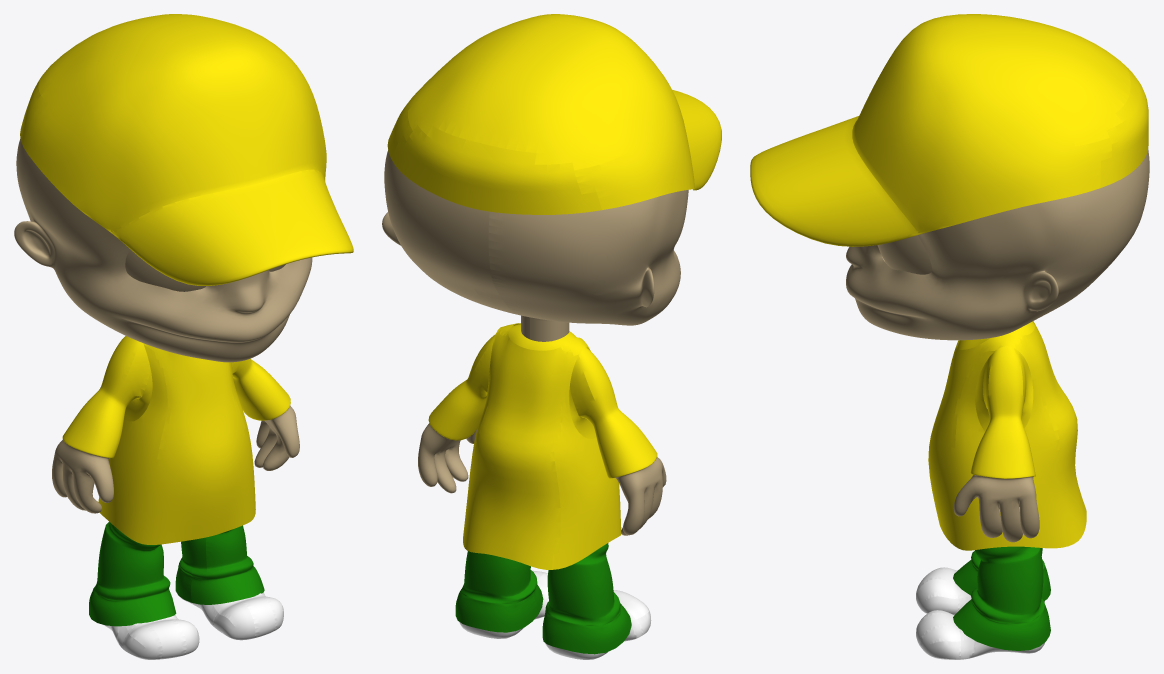
The model's file is role.FBX.
The picture shows the model from 3 angles, left to right: view 1: azimuth 30°, elevation 25°; view 2: azimuth 150°, elevation 25°; view 3: azimuth 270°, elevation 25°; orthographic projection.
Visible parts, largest first — view 1: reper, noga_p01; view 2: reper, noga_p01; view 3: reper, noga_p01.
Boxes of the visible parts, bbox=[...] form: reper: bbox=[14, 14, 353, 640]; noga_p01: bbox=[103, 615, 199, 659]; reper: bbox=[382, 14, 721, 654]; noga_p01: bbox=[545, 590, 651, 659]; reper: bbox=[750, 14, 1149, 659]; noga_p01: bbox=[916, 567, 1044, 614].
Bounding box in the file's own units: 182 × 381 × 231.
